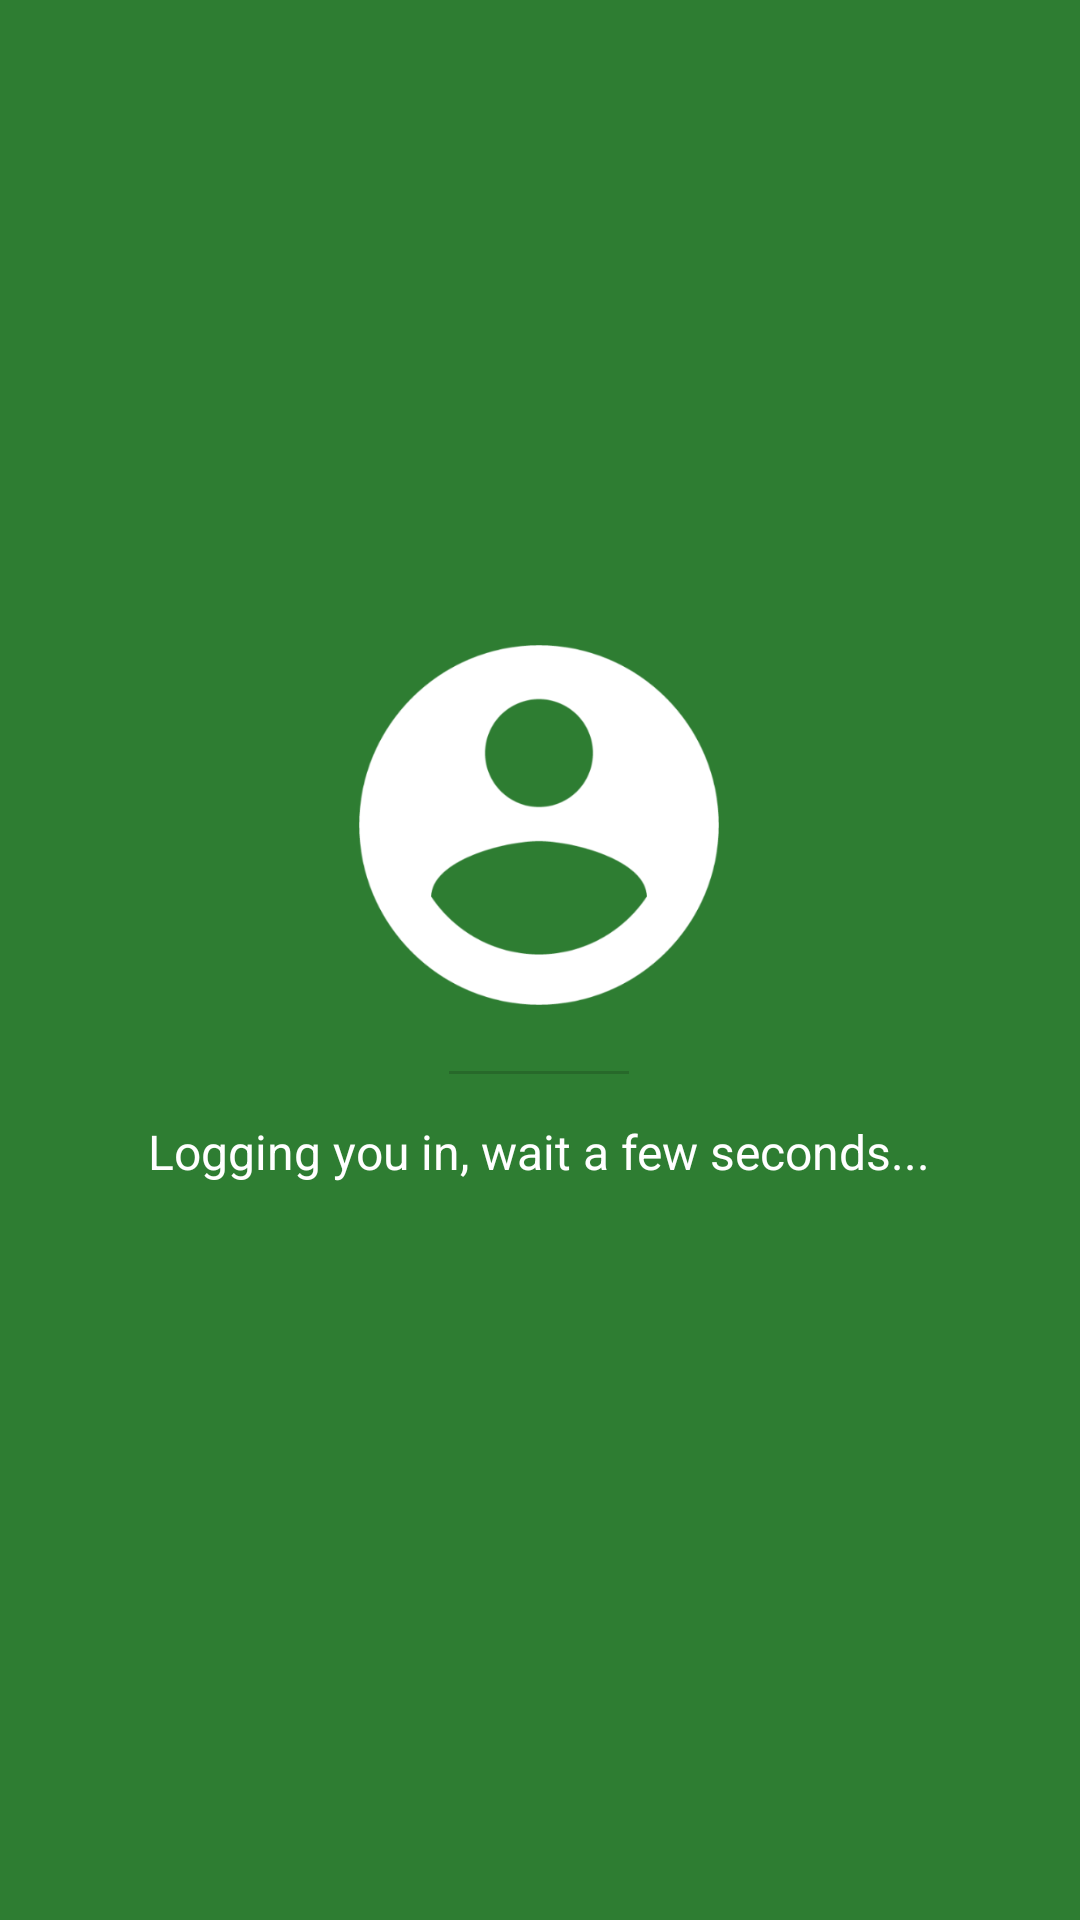

Point at icon controls on the screen. Image size 1080 × 1920, points as point (x, y).
account circle: point (539, 825)
